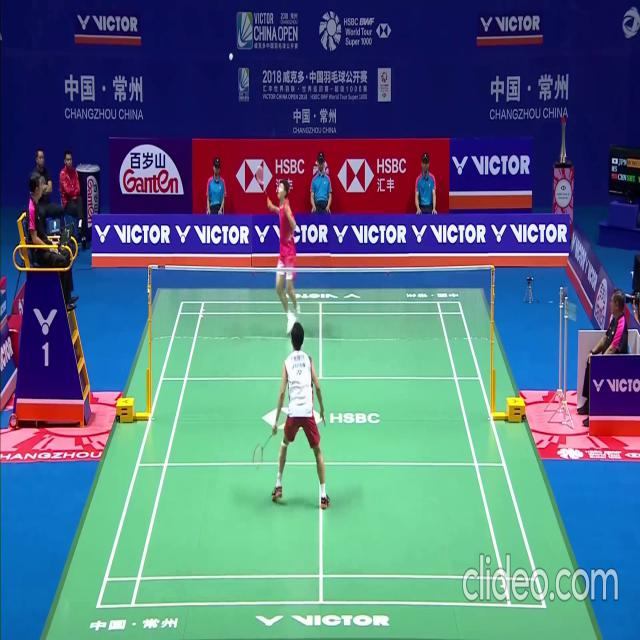Shuttlecock: (229, 53, 233, 61)
